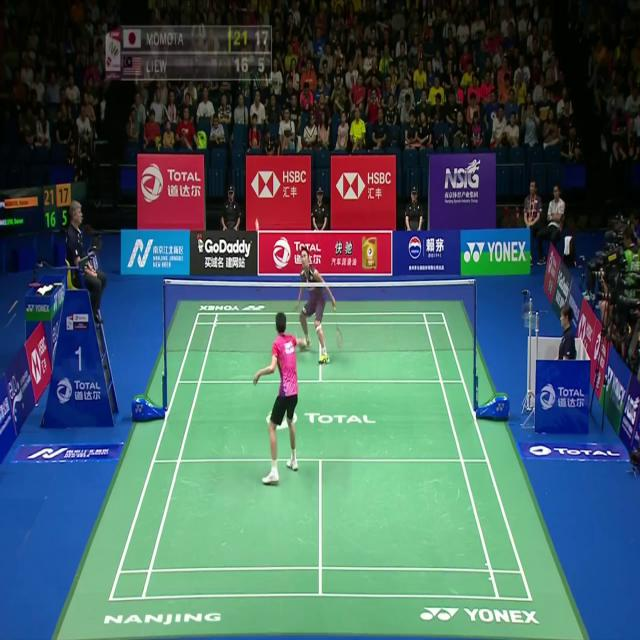Shuttlecock: (254, 220, 260, 232)
